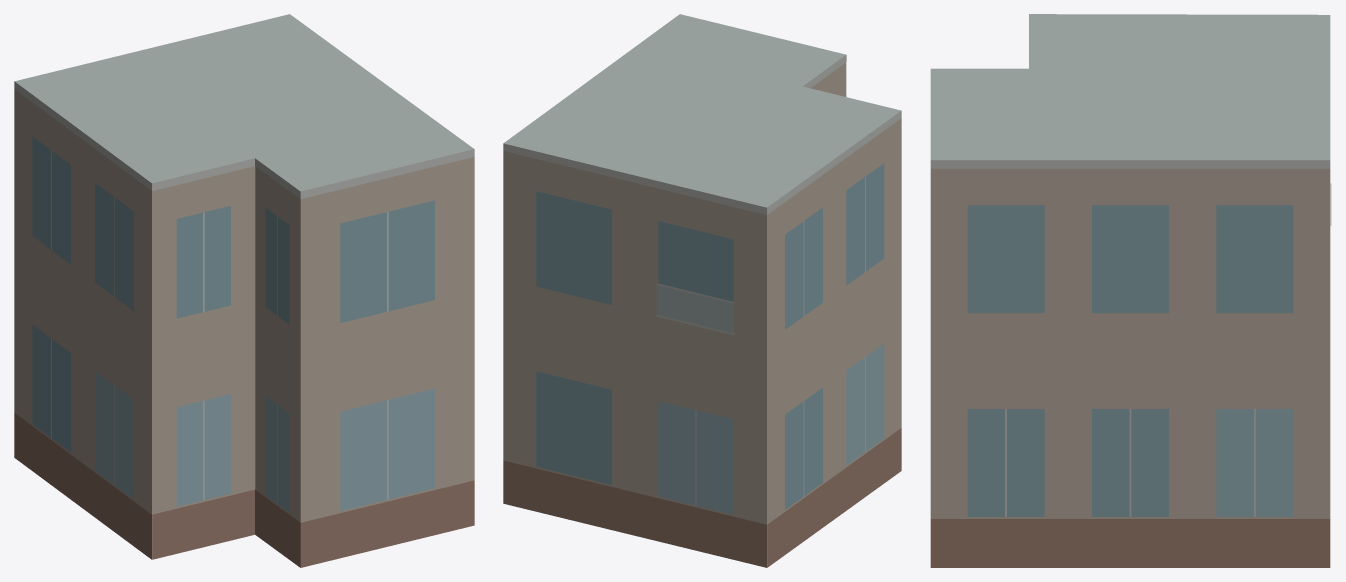
Rendered from survey-upis-32897313.glb.
3 renders of one model, left to right at view 1: azimuth 30°, elevation 25°; view 2: azimuth 150°, elevation 25°; view 3: azimuth 270°, elevation 25°, orthographic. The views are drawn at different scales.
Visible parts, largest first — view 1: survey-upis-32897313.tmp; view 2: survey-upis-32897313.tmp; view 3: survey-upis-32897313.tmp.
Boxes of the visible parts, left/top/right/bottom form: survey-upis-32897313.tmp: left=14, top=14, right=474, bottom=567; survey-upis-32897313.tmp: left=503, top=14, right=901, bottom=567; survey-upis-32897313.tmp: left=930, top=14, right=1331, bottom=567.
Bounding box in the file's own units: 9.18 × 11.89 × 10.62.
